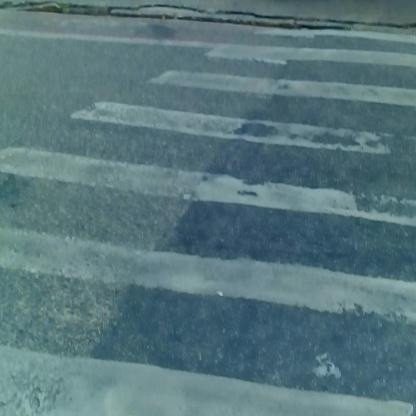crosswalk: (11, 26, 416, 416)
sidewalk: (5, 1, 416, 41)
